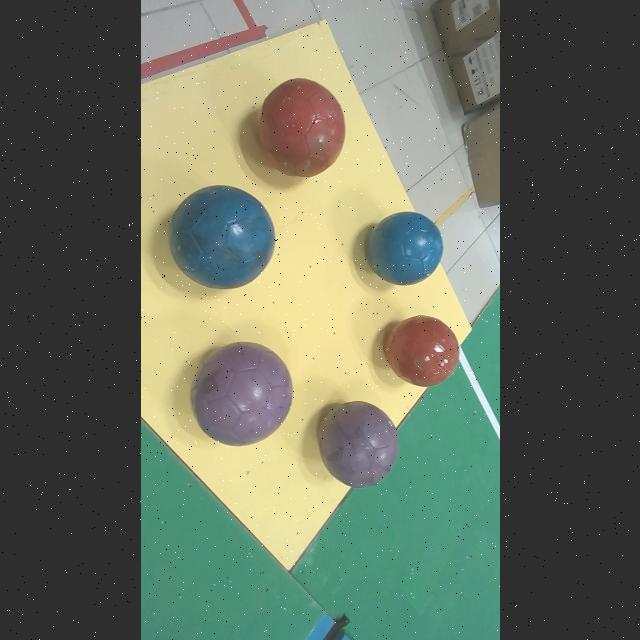B: (169, 186, 275, 289), (366, 212, 443, 286)
P: (192, 341, 292, 445), (319, 401, 399, 488)
R: (257, 78, 346, 177), (384, 315, 459, 386)
